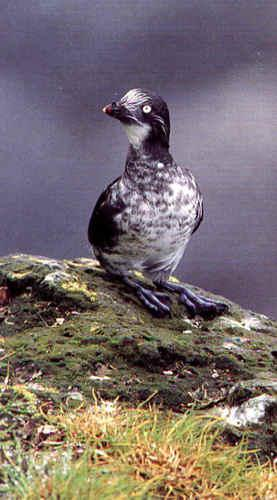006.Least_Auklet: (86, 85, 233, 320)
